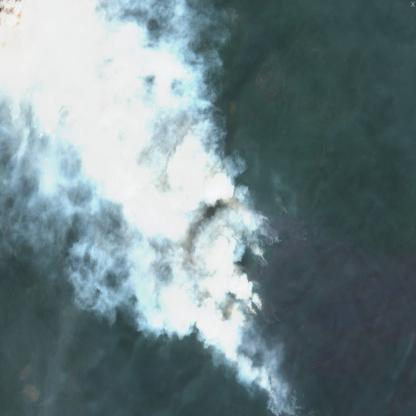fire: (1, 22, 301, 416)
